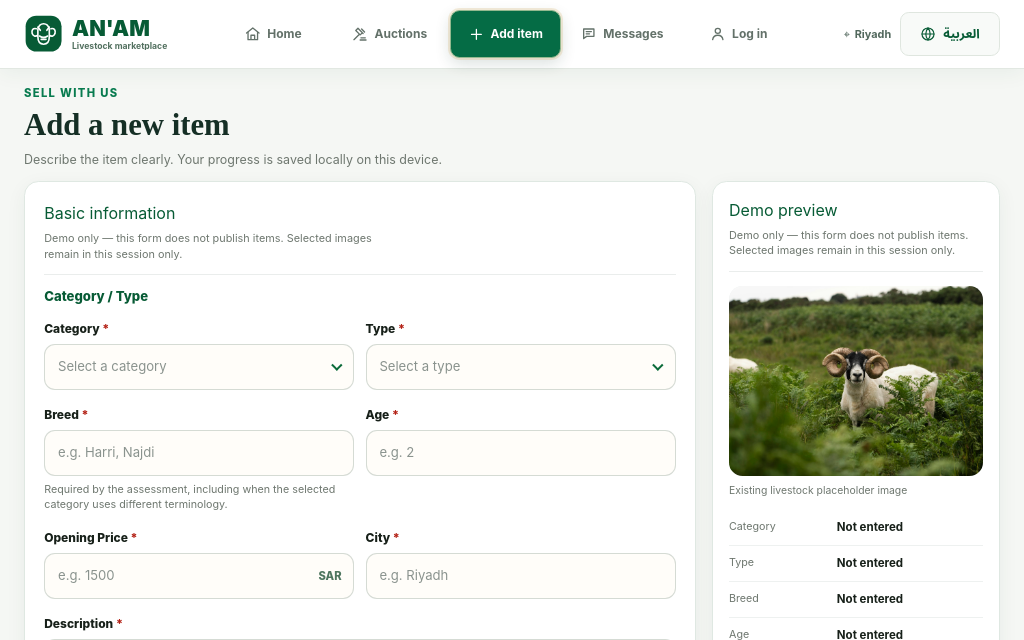
Scenario: Add Item form › automatically saves edits in a versioned LocalStorage envelope
In the field labelled "Breed": (199, 453) [44,430,354,476], type "Arabian"
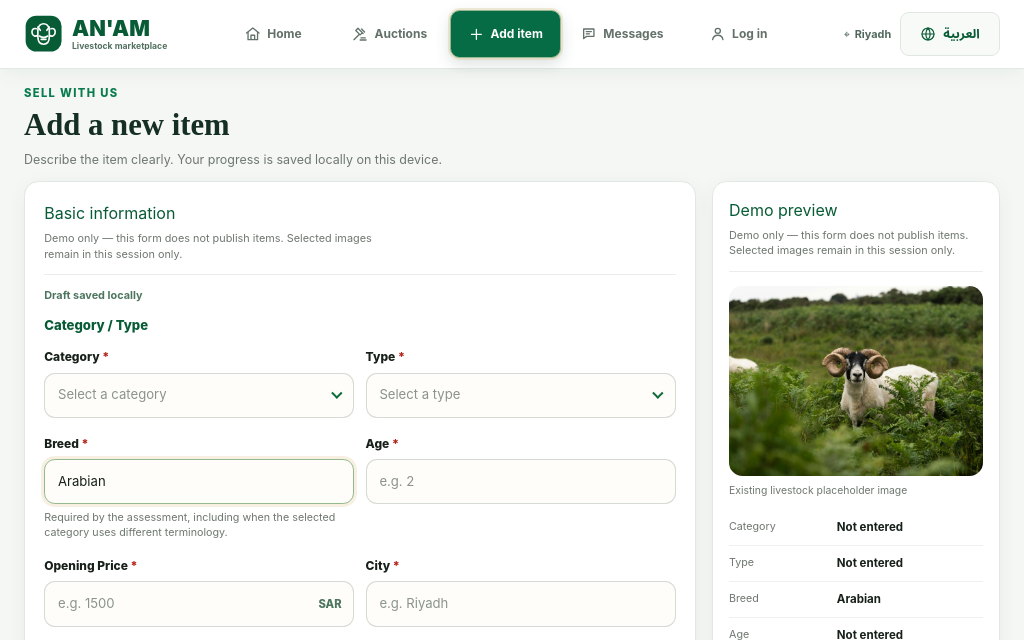
Check: the text "Arabian" is shown, box [837,592,881,606]
Check: the text "Draft saved locally" is shown, box [44,288,142,302]
